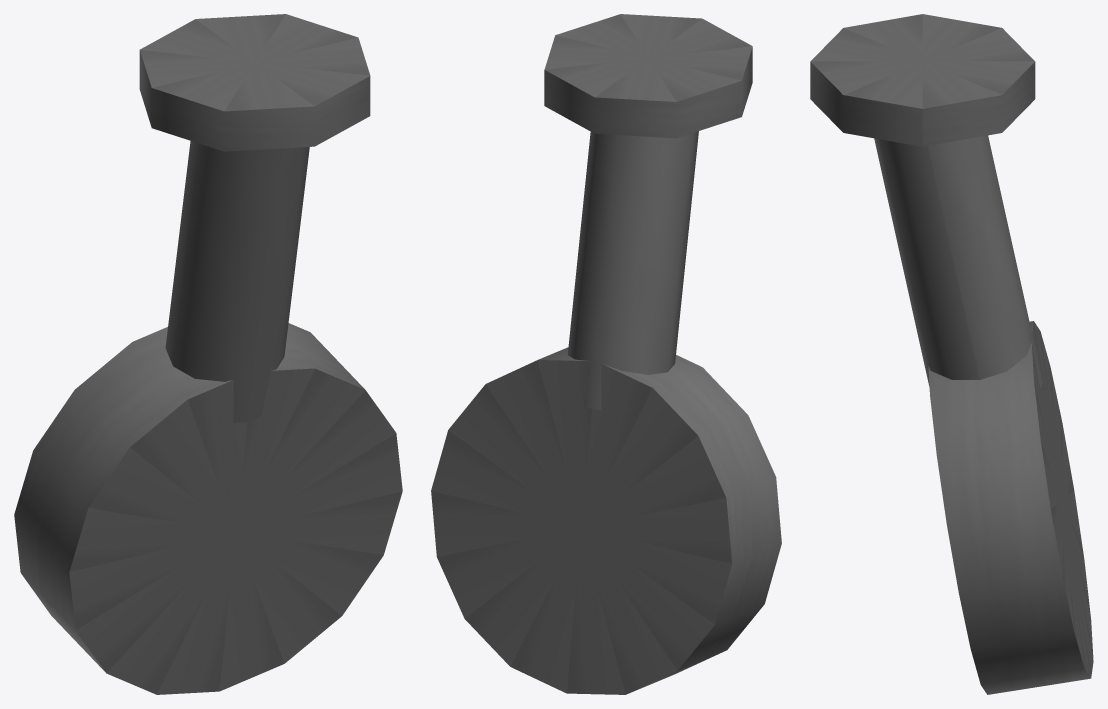
The model's file is mastarmcurve_10x2_c7_up.obj.
3 views of the same model, side by side, from view 1: azimuth 30°, elevation 25°; view 2: azimuth 150°, elevation 25°; view 3: azimuth 270°, elevation 25° (orthographic). The views are drawn at different scales.
Visible parts, largest first — view 1: mastarm_10x2_c7_up; view 2: mastarm_10x2_c7_up; view 3: mastarm_10x2_c7_up.
Part boxes in pixels (box(x1,y1,x2,y2)): mastarm_10x2_c7_up: box(14, 14, 402, 694); mastarm_10x2_c7_up: box(431, 14, 781, 694); mastarm_10x2_c7_up: box(810, 14, 1093, 694).
Size of the model in its own units: 0.6451 by 1.21 by 0.5038.
